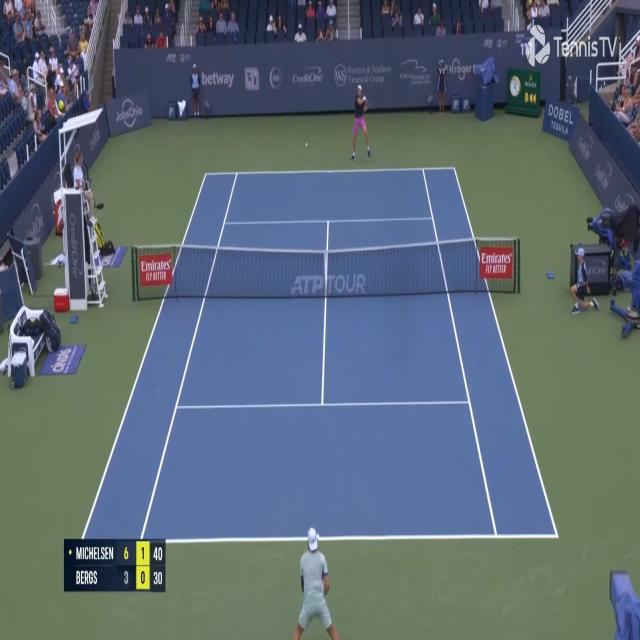tennis-player: (286, 522, 344, 638), (348, 82, 373, 163)
